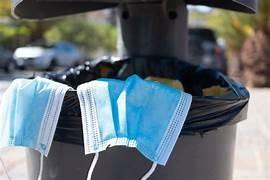Mask: (77, 75, 191, 168), (0, 77, 69, 155)
